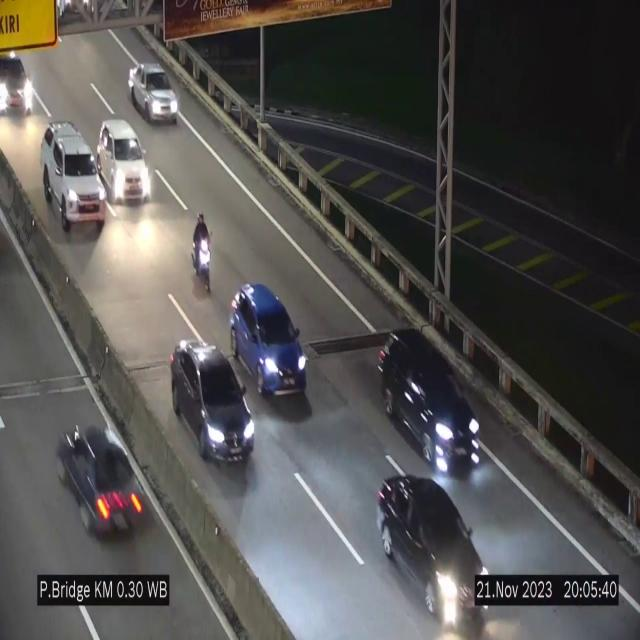Car: (376, 473, 490, 628), (378, 326, 484, 484), (52, 409, 158, 546), (171, 342, 255, 462), (231, 284, 307, 398), (42, 124, 106, 234), (98, 119, 152, 201), (0, 42, 42, 124), (128, 62, 178, 122)
Motorcycle: (190, 203, 214, 303)
